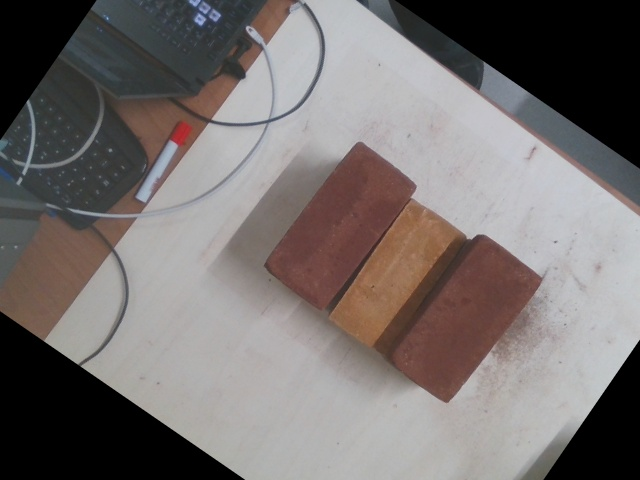brick: (392, 236, 544, 405), (263, 141, 415, 310), (329, 199, 467, 355)
